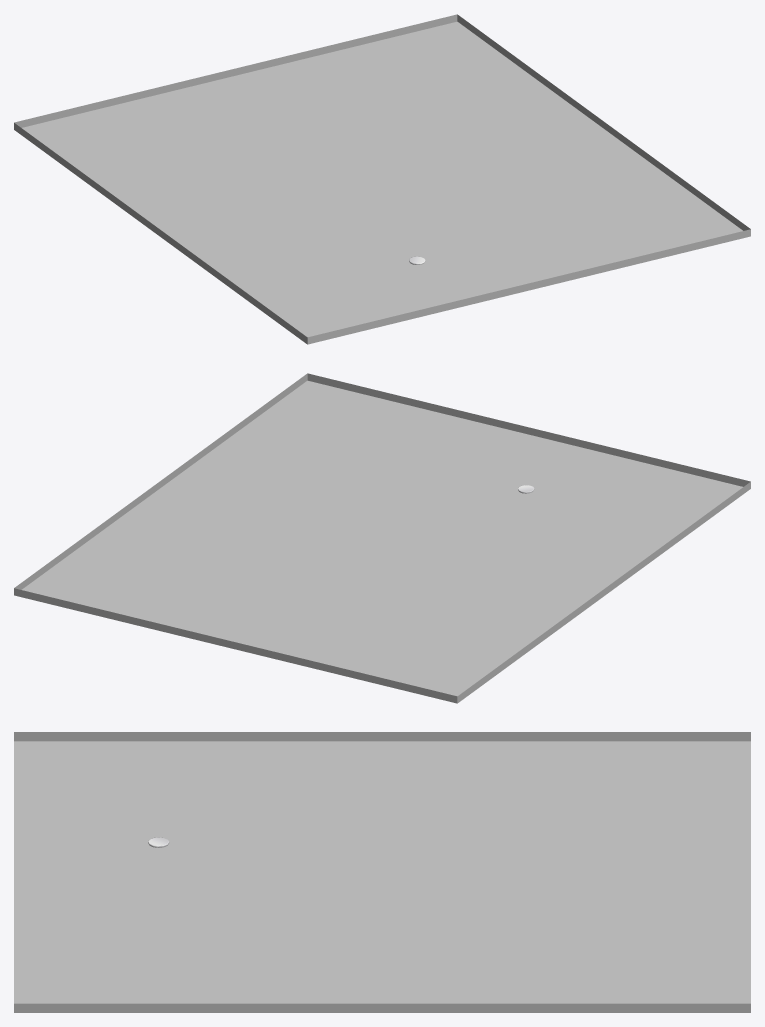
Rendered from Atap&Lampu.fbx.
The picture shows the model from 3 angles, top to bottom: view 1: azimuth 30°, elevation 25°; view 2: azimuth 150°, elevation 25°; view 3: azimuth 270°, elevation 25°; orthographic projection. The views are drawn at different scales.
Visible parts, largest first — view 1: Atap; view 2: Atap; view 3: Atap.
Boxes of the visible parts, left/top/right/bottom form: Atap: left=14, top=14, right=750, bottom=344; Atap: left=14, top=373, right=750, bottom=703; Atap: left=14, top=732, right=750, bottom=1012.
Bounding box in the file's own units: 1628 × 107 × 1867.
